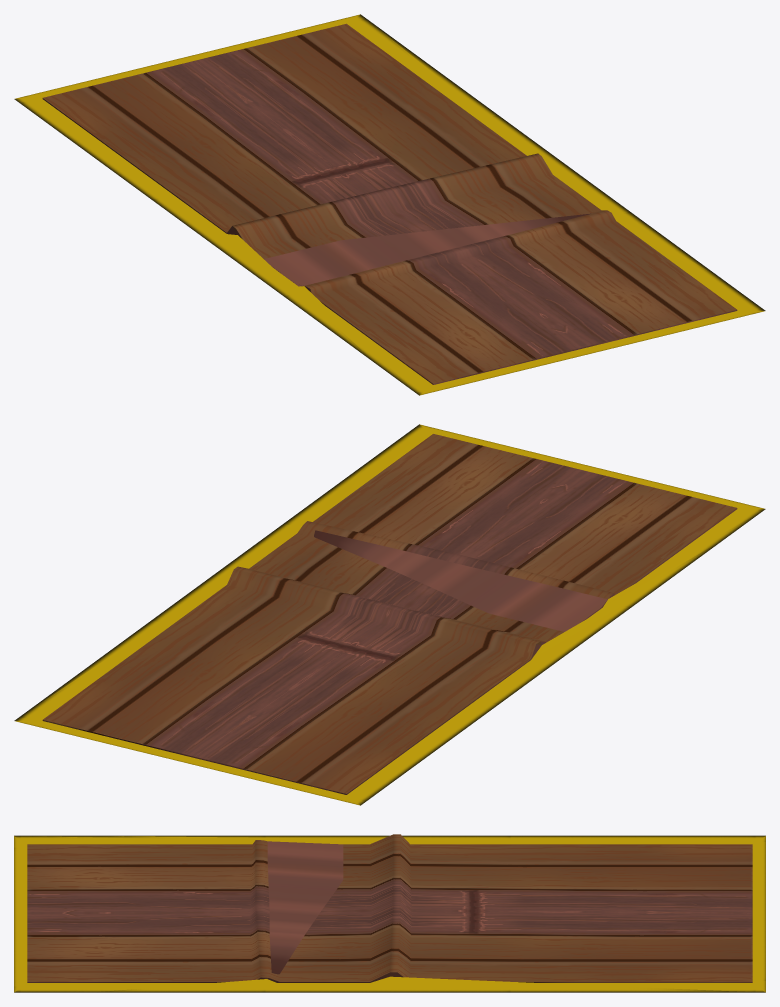
Rendered from Carpet02_Art.fbx.
3 views of the same model, one above another, from view 1: azimuth 30°, elevation 25°; view 2: azimuth 150°, elevation 25°; view 3: azimuth 270°, elevation 25° (orthographic). The views are drawn at different scales.
Visible parts, largest first — view 1: Carpet02_Art; view 2: Carpet02_Art; view 3: Carpet02_Art.
Boxes of the visible parts, left/top/right/bottom form: Carpet02_Art: left=14, top=14, right=765, bottom=395; Carpet02_Art: left=14, top=424, right=765, bottom=805; Carpet02_Art: left=14, top=834, right=765, bottom=992.
Size of the model in its own units: 1.3 by 0.043 by 2.63.
